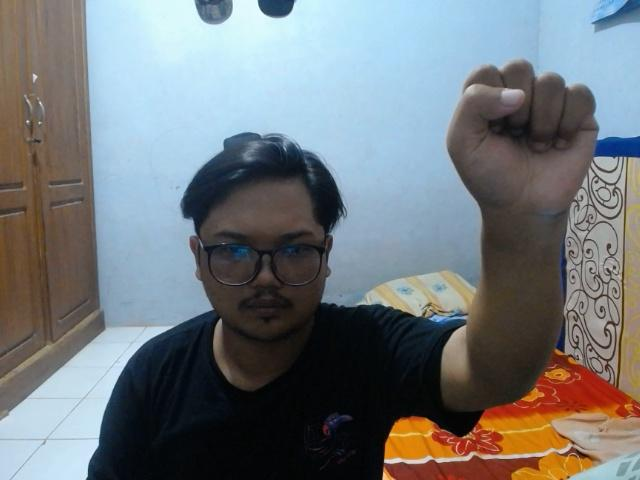Grab: (442, 53, 606, 224)
